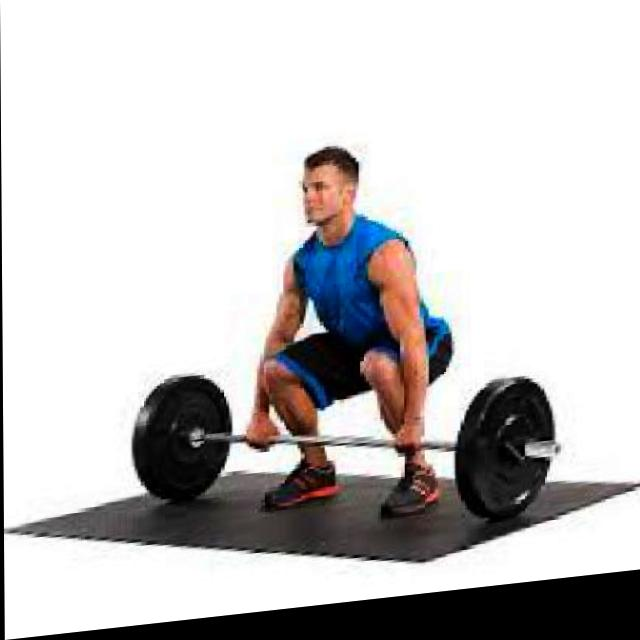barbell: (463, 380, 567, 541)
